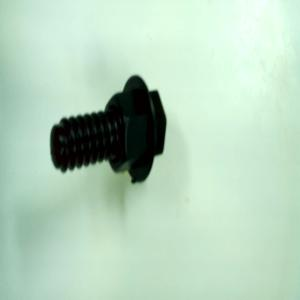parafuso: (49, 73, 168, 186), (49, 74, 168, 185)
